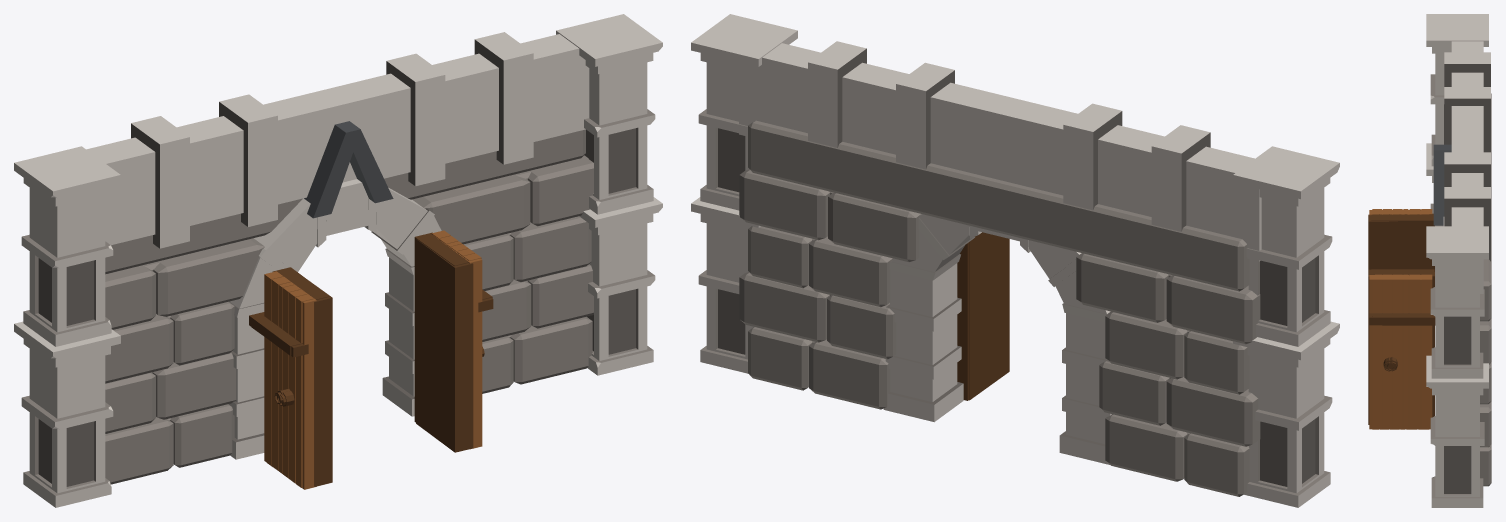
File: OPENGATE 1.fbx
3 renders of one model, left to right at view 1: azimuth 30°, elevation 25°; view 2: azimuth 150°, elevation 25°; view 3: azimuth 270°, elevation 25°, orthographic. The views are drawn at different scales.
Visible parts, largest first — view 1: Cube.1028; view 2: Cube.1028; view 3: Cube.1028.
Boxes of the visible parts, left/top/right/bottom form: Cube.1028: left=14, top=14, right=662, bottom=507; Cube.1028: left=691, top=14, right=1339, bottom=507; Cube.1028: left=1368, top=14, right=1491, bottom=507.
Bounding box in the file's own units: 5377 × 2824 × 1170.
